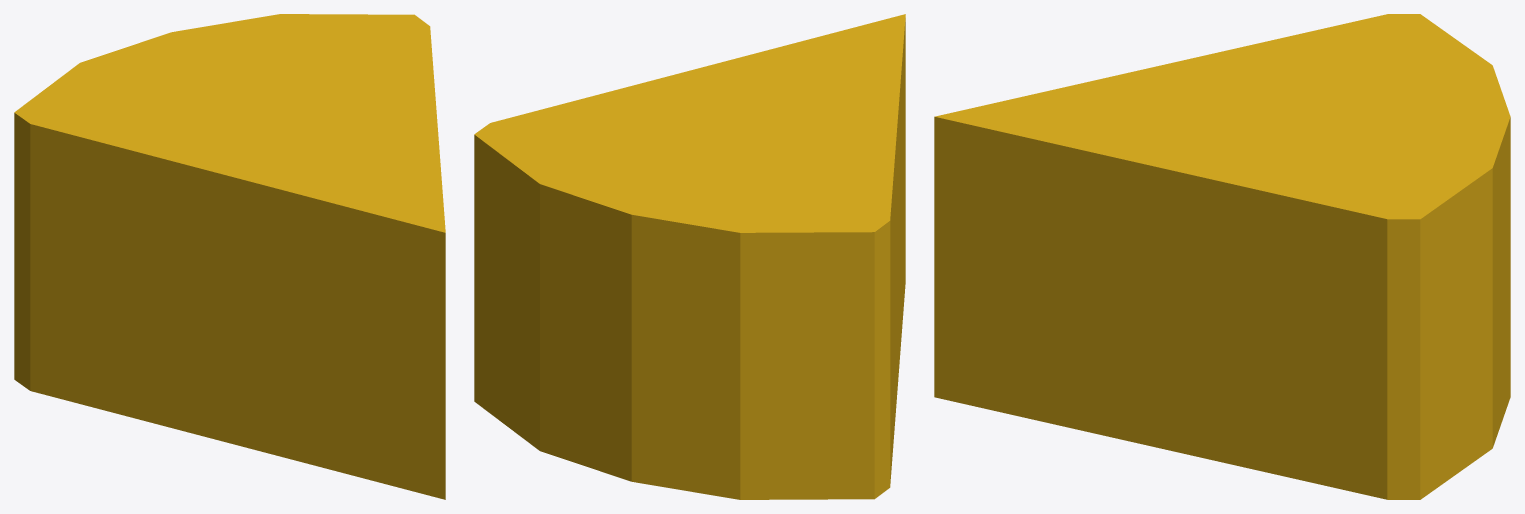
Rendered from Cheese.fbx.
3 renders of one model, left to right at view 1: azimuth 30°, elevation 25°; view 2: azimuth 150°, elevation 25°; view 3: azimuth 270°, elevation 25°, orthographic. The views are drawn at different scales.
Visible parts, largest first — view 1: Cube; view 2: Cube; view 3: Cube.
Part boxes in pixels (x1,y1,x2,y2): Cube: (14,14,445,499); Cube: (474,14,905,499); Cube: (934,14,1510,499).
Size of the model in its own units: 200 by 127 by 237.
